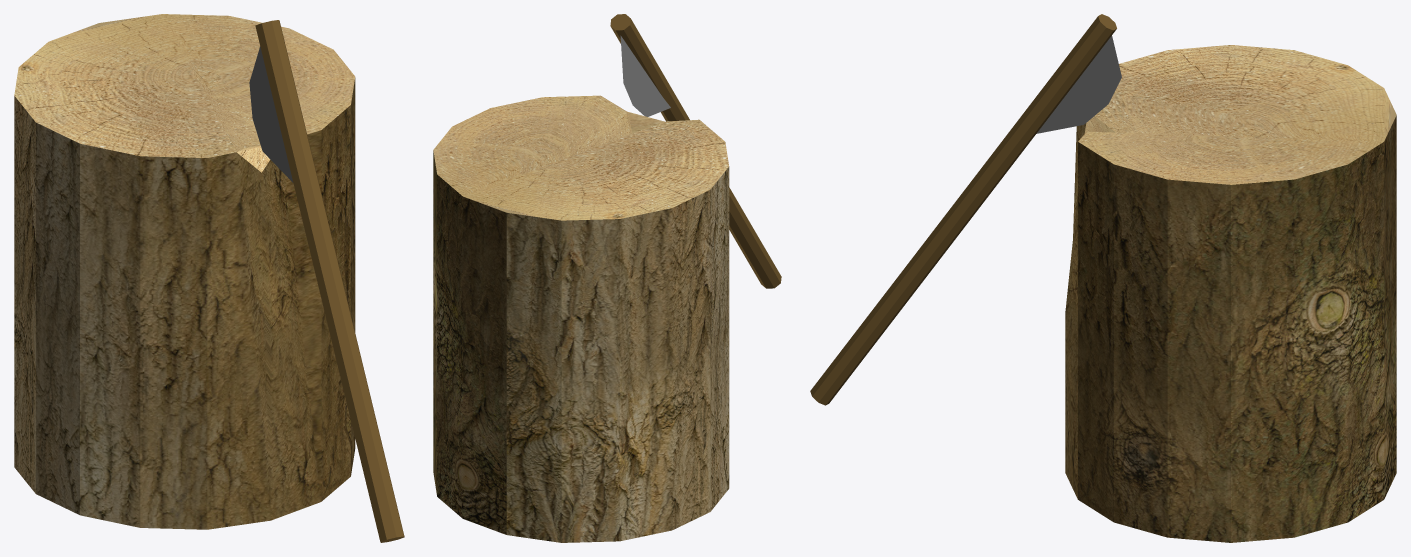
Rendered from trunk.fbx.
3 views of the same model, side by side, from view 1: azimuth 30°, elevation 25°; view 2: azimuth 150°, elevation 25°; view 3: azimuth 270°, elevation 25° (orthographic). The views are drawn at different scales.
Parts seen in each view (by area): view 1: Cylinder; view 2: Cylinder; view 3: Cylinder.
Boxes of the visible parts, <box> form: Cylinder: <box>14,14,404,542</box>; Cylinder: <box>433,14,781,542</box>; Cylinder: <box>810,14,1396,542</box>.
Size of the model in its own units: 200 by 310 by 354.
4 materials, 2 textured.
